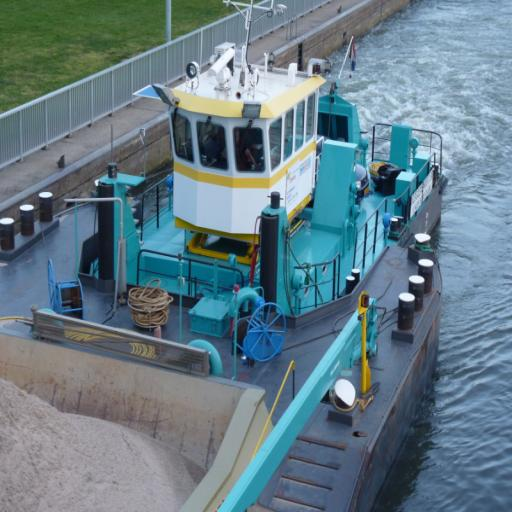tugboat: (55, 2, 452, 378)
